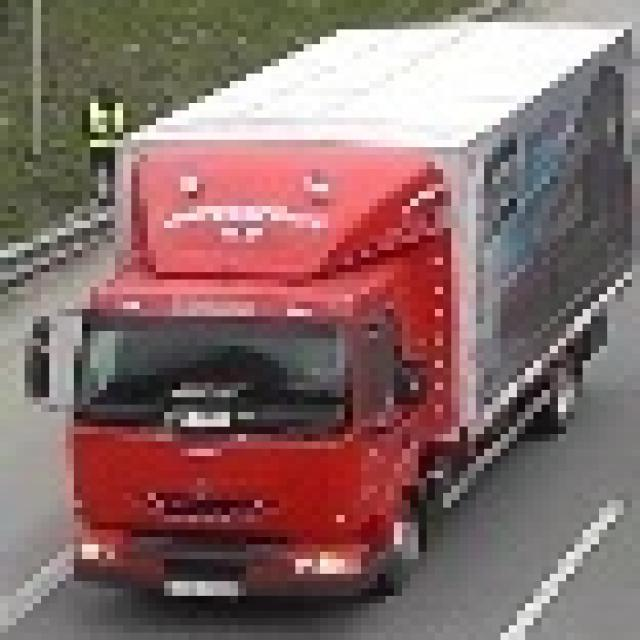truck: (9, 139, 470, 625)
